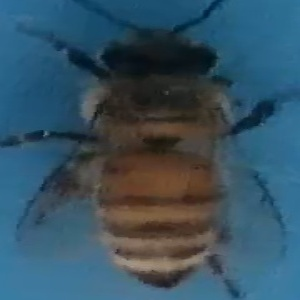bee: (18, 12, 287, 294)
